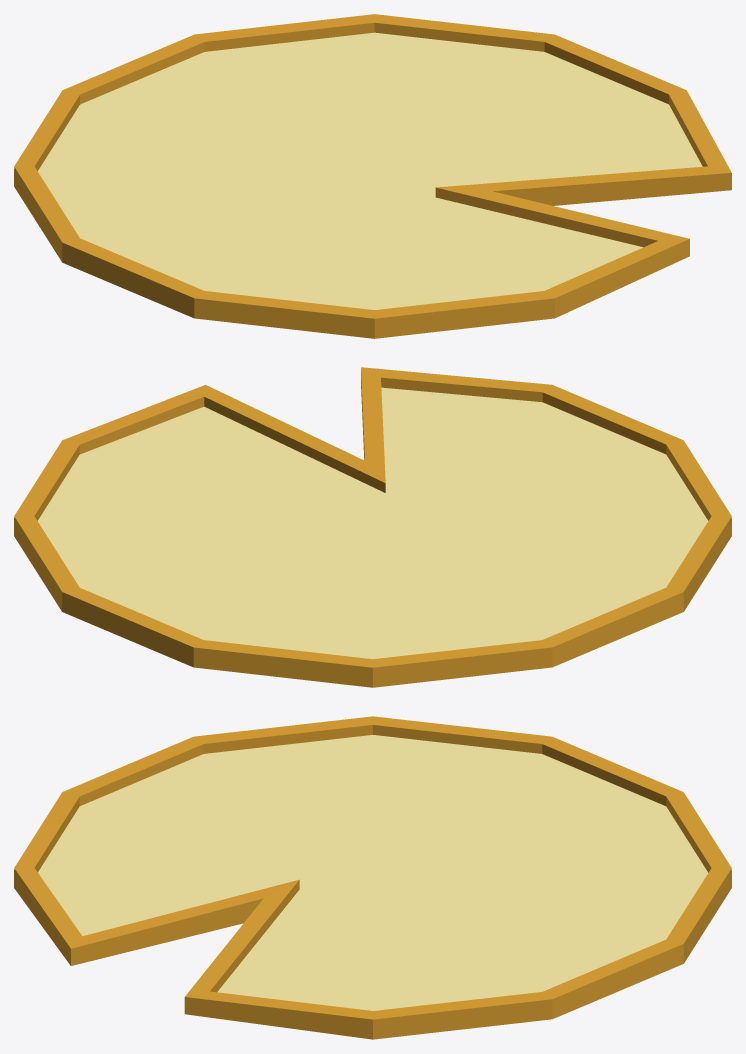
Rendered from YellowPAD.fbx.
3 renders of one model, top to bottom at view 1: azimuth 30°, elevation 25°; view 2: azimuth 150°, elevation 25°; view 3: azimuth 270°, elevation 25°, orthographic.
Parts seen in each view (by area): view 1: Circle.019; view 2: Circle.019; view 3: Circle.019.
Part boxes in pixels (x1,y1,x2,y2): Circle.019: (14, 14, 731, 338); Circle.019: (14, 367, 731, 687); Circle.019: (14, 716, 731, 1039).
Size of the model in its own units: 1487 by 45.73 by 1487.
